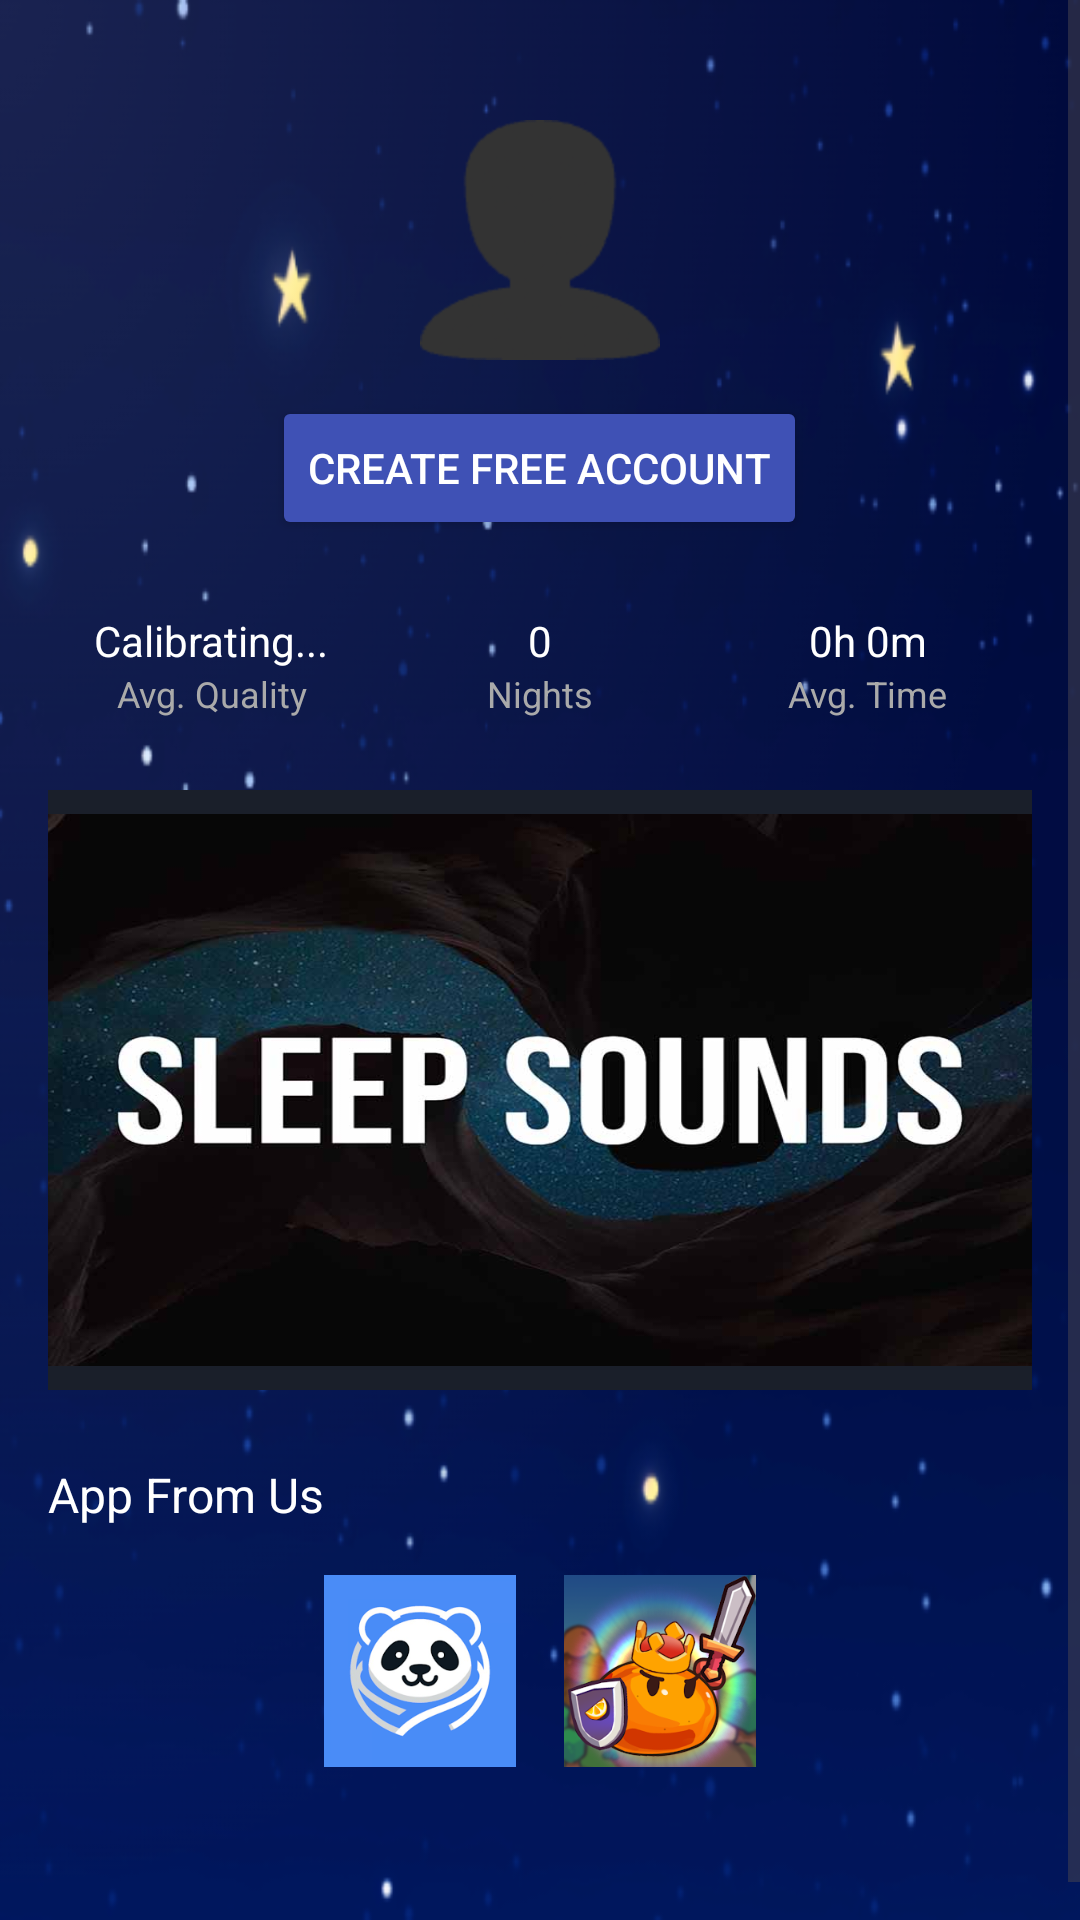

Where to tap for icons on this 1080 x 1920 app screen, as point (x, y):
profile: point (540, 240)
